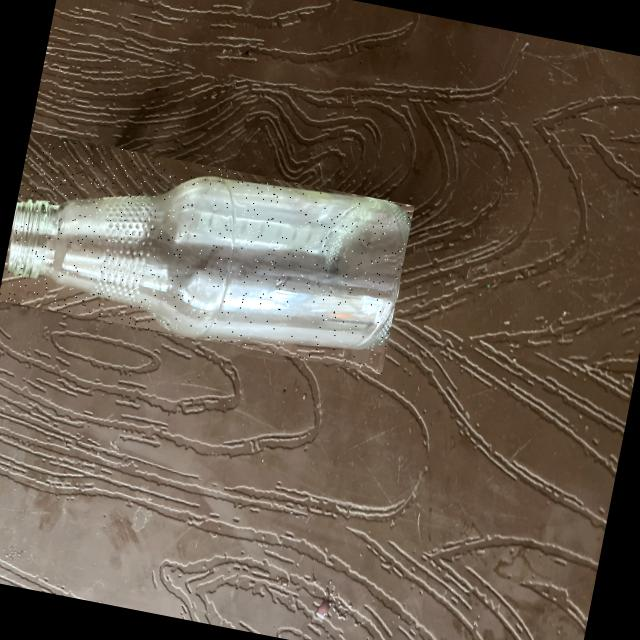Glass_Bottle: (9, 177, 410, 348)
